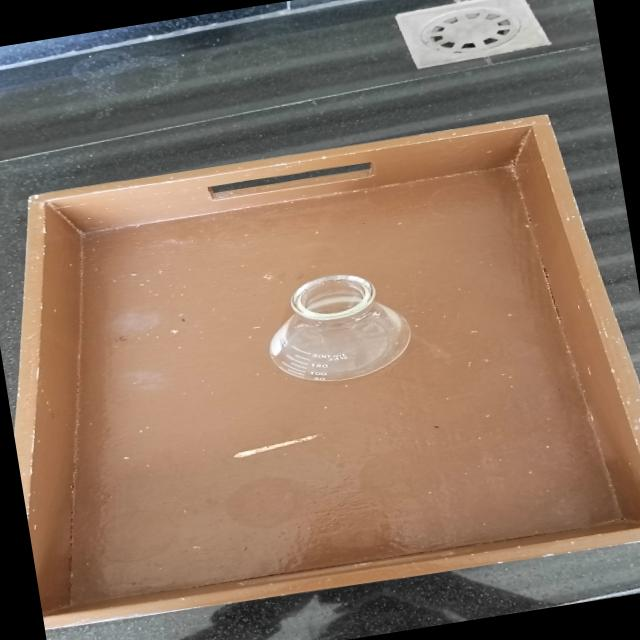erlenmeyer_flask: (248, 262, 430, 396)
